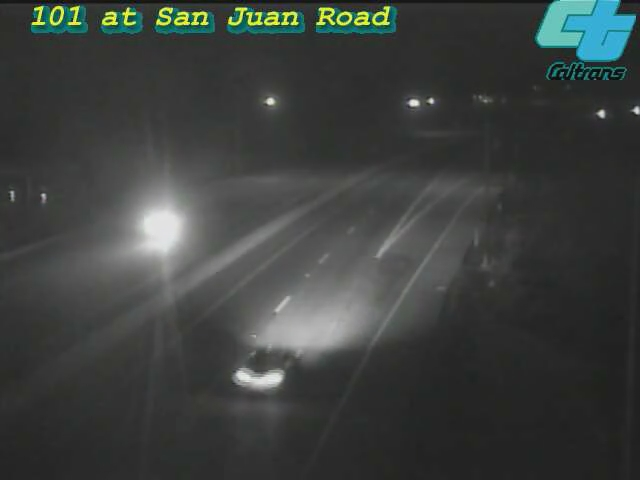vehicle: (210, 319, 320, 429), (120, 186, 200, 266), (578, 89, 628, 139)
